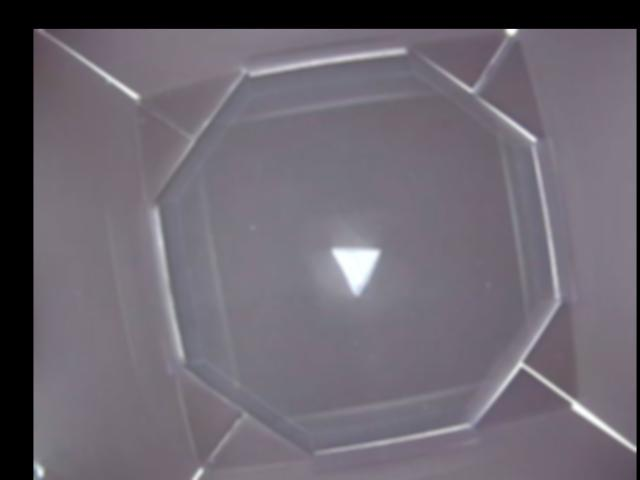China: (330, 245, 382, 292)
